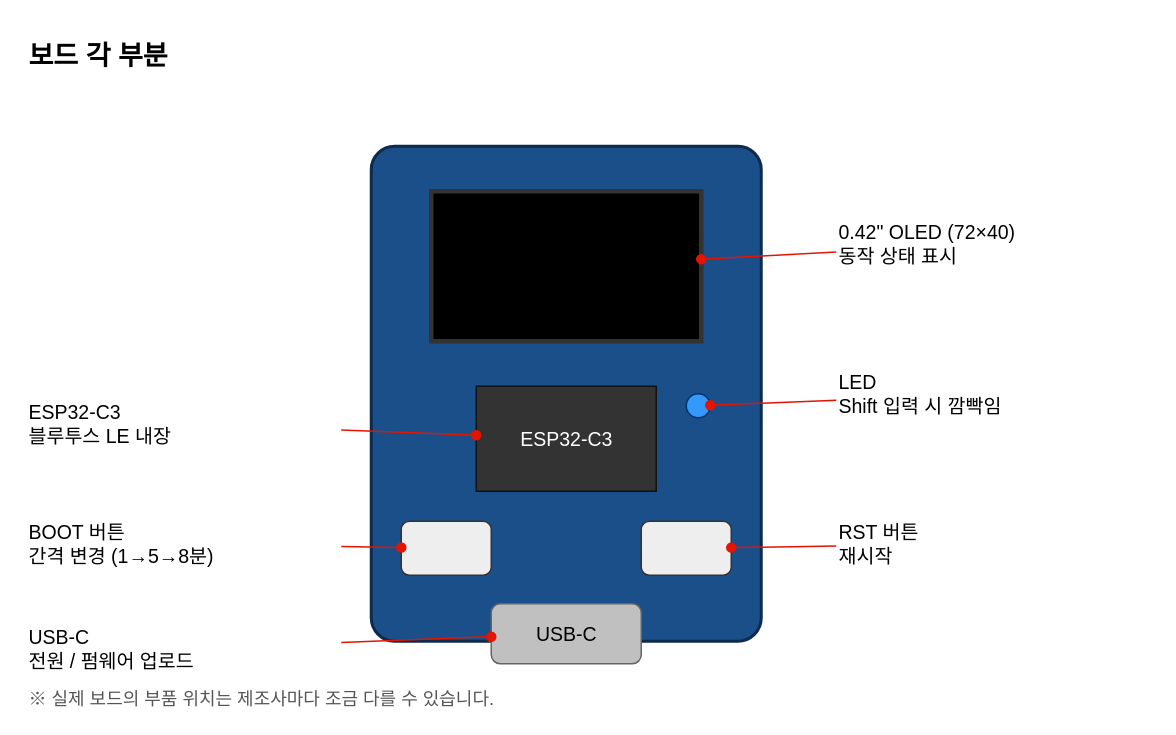
The diagram is 1176 pixels wide and 735 high, and some of its shapes have lost their labels. The centre of each missing label's shape, as x and y in pixels:
"BOOT" goes at point 445,547.
"RST" goes at point 685,547.
